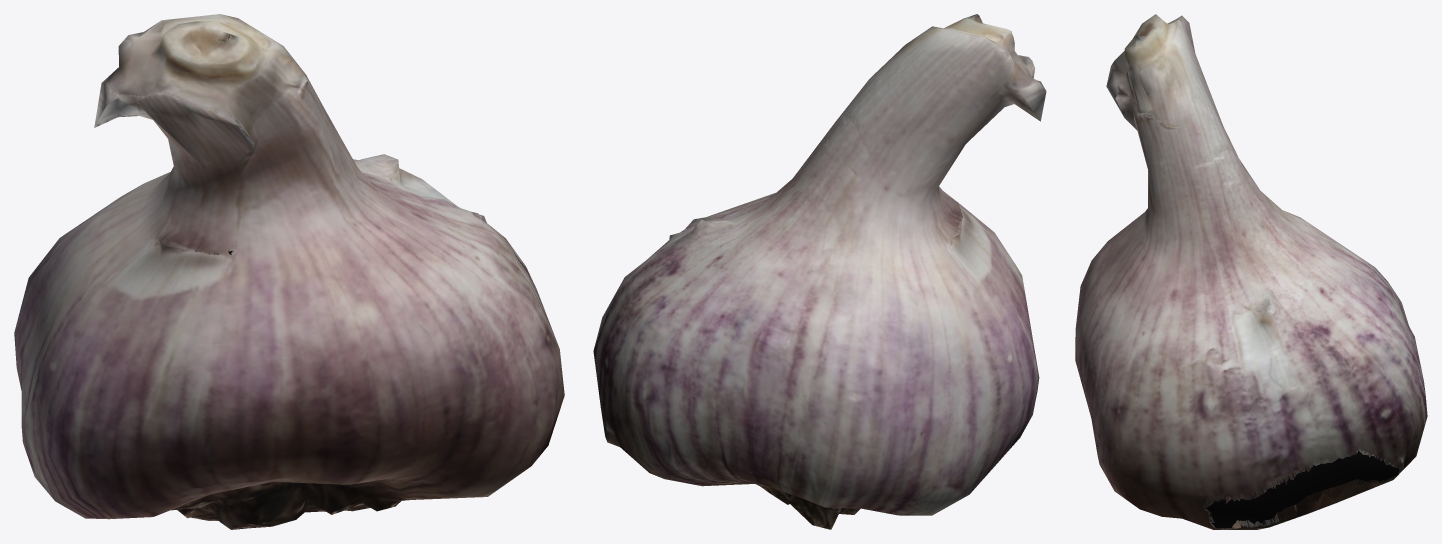
The model's file is 38_garlic.glb.
3 views of the same model, side by side, from view 1: azimuth 30°, elevation 25°; view 2: azimuth 150°, elevation 25°; view 3: azimuth 270°, elevation 25° (orthographic). The views are drawn at different scales.
Parts seen in each view (by area): view 1: 38_garlic; view 2: 38_garlic; view 3: 38_garlic.
Boxes of the visible parts, left/top/right/bottom form: 38_garlic: left=14, top=14, right=564, bottom=529; 38_garlic: left=593, top=14, right=1046, bottom=529; 38_garlic: left=1075, top=14, right=1427, bottom=529.
Size of the model in its own units: 0.6505 by 0.7271 by 0.5563.
1 material, 1 textured.
